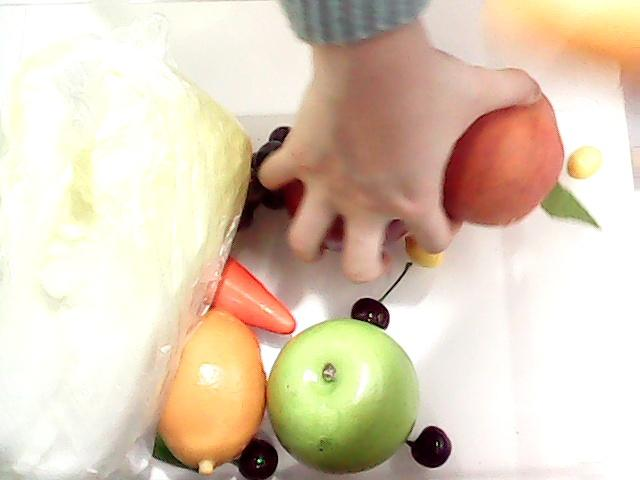apple: (266, 322, 418, 474), (283, 174, 409, 250)
carrot: (206, 256, 298, 338)
lemon: (141, 286, 281, 478)
napa cabbage: (1, 40, 247, 480)
peach: (438, 66, 566, 232)
